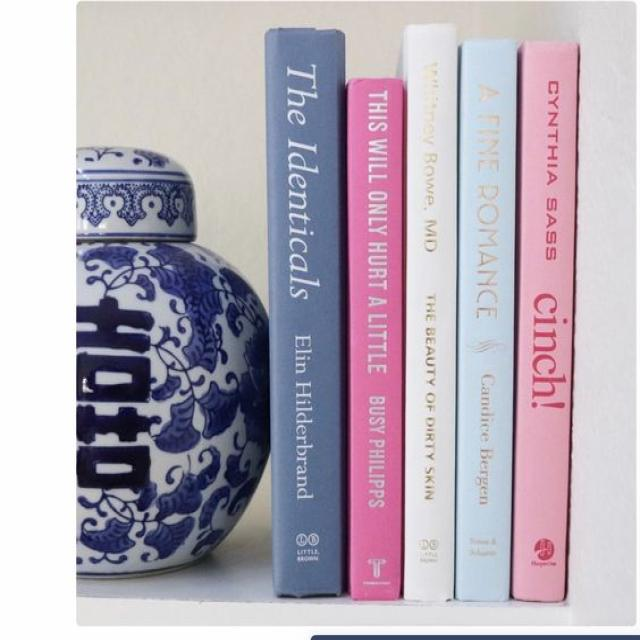book: (266, 28, 344, 596), (511, 42, 579, 601), (454, 39, 516, 599), (403, 25, 457, 601), (346, 79, 405, 599)
